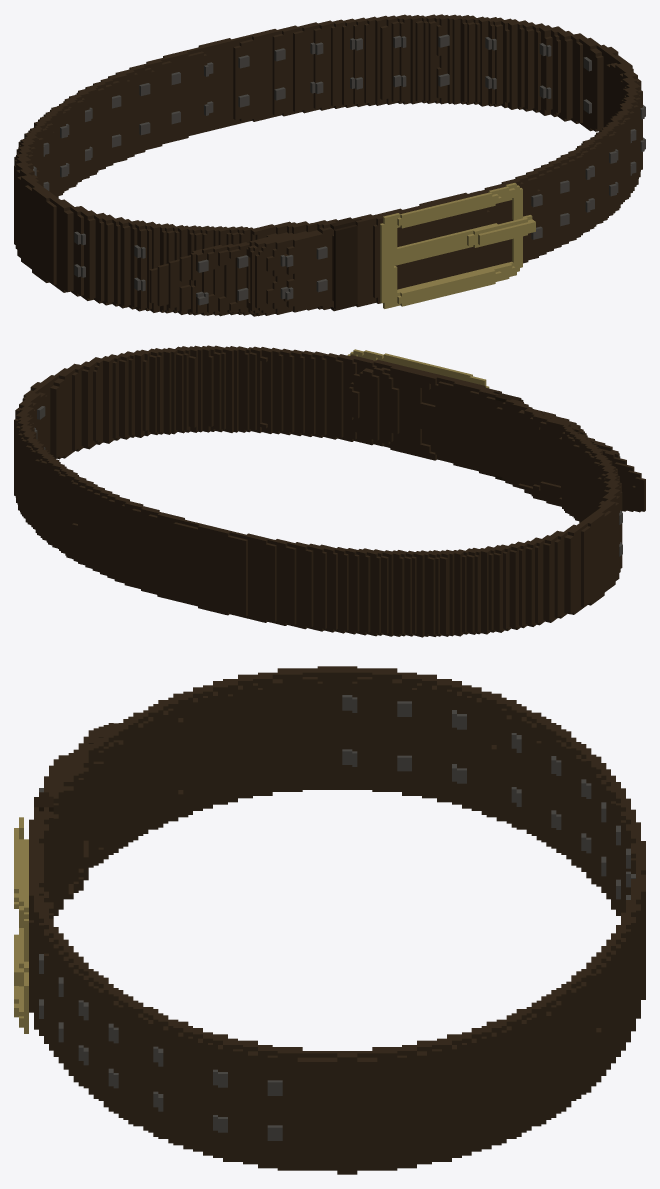
Rendered from LeatherBelt-Large.obj.
3 views of the same model, one above another, from view 1: azimuth 30°, elevation 25°; view 2: azimuth 150°, elevation 25°; view 3: azimuth 270°, elevation 25° (orthographic). The views are drawn at different scales.
Size of the model in its own units: 18.6 by 2.8 by 12.7.
1 material, 1 textured.
